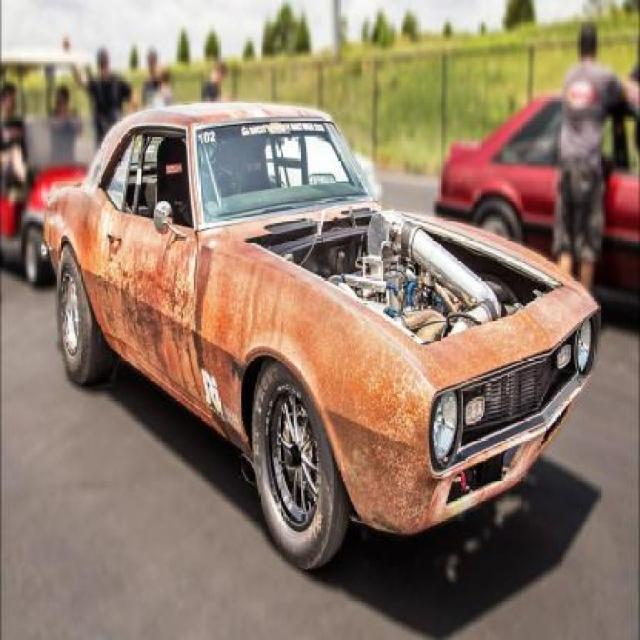corrosion: (45, 101, 600, 564)
